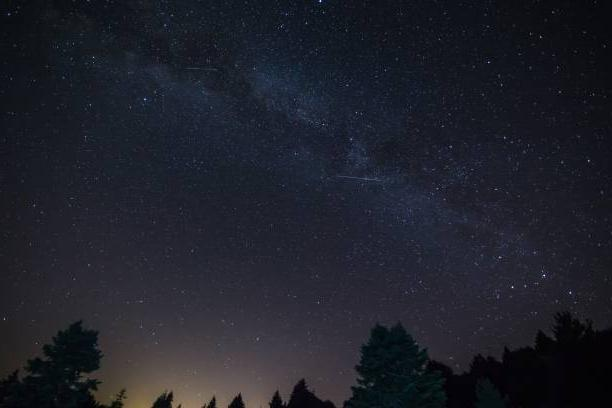meteorite: (323, 168, 394, 193), (183, 61, 227, 78)
